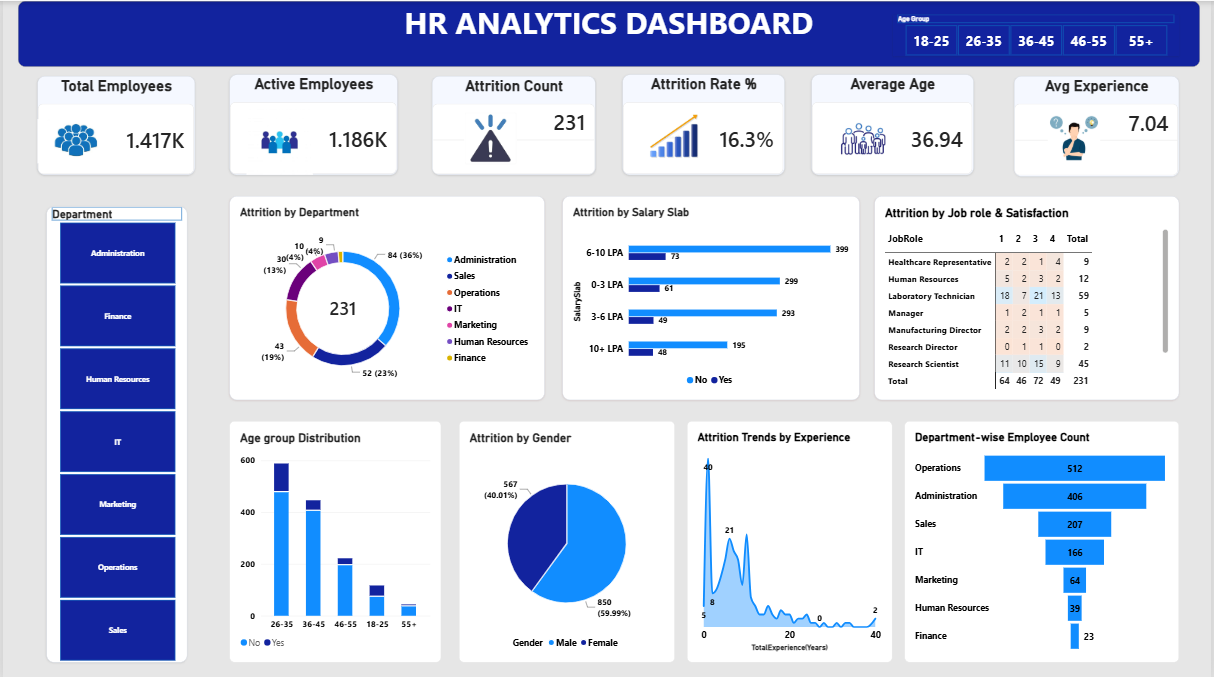

The dashboard page shown, as its layout file describes it:
{"tool":"powerbi","page":{"name":"Page 1","canvas":[1920,1080],"ordinal":0},"visuals":[{"type":"textbox","box":[23.9,0,1880.1,105],"z":0},{"type":"cardVisual","title":"Total Employees","fields":{"Data":["CountNonNull(HR_Analytics-4.EmpID)"]},"box":[54.9,119.3,250.5,157.5],"z":1000},{"type":"cardVisual","title":"Active Employees","fields":{"Data":["CountNonNull(HR_Analytics-4.EmployeeCount)"]},"box":[360.3,116.9,267.2,159.9],"z":2000},{"type":"cardVisual","title":"Attrition Count","fields":{"Data":["Sum(HR_Analytics-4.AttritionCount)"]},"box":[682.4,119.3,260.1,157.5],"z":3000},{"type":"cardVisual","title":"Attrition Rate %","fields":{"Data":["HR_Analytics-4.Attrition Rate %"]},"box":[985.4,116.9,257.7,159.9],"z":4000},{"type":"cardVisual","title":"Average Age","fields":{"Data":["Avg(HR_Analytics-4.Age)"]},"box":[1286,116.9,257.7,159.9],"z":5000},{"type":"cardVisual","title":"Avg Experience","fields":{"Data":["Avg(HR_Analytics-4.YearsatCompany)"]},"box":[1608.1,119.3,262.5,159.9],"z":6000},{"type":"image","box":[718.2,176.6,114.5,83.5],"z":7000},{"type":"image","box":[1627.2,176.6,152.7,83.5],"z":8000},{"type":"image","box":[942.4,176.6,250.5,78.7],"z":9000},{"type":"image","box":[305.4,171.8,269.6,105],"z":10000},{"type":"image","box":[54.9,181.3,126.5,83.5],"z":11000},{"type":"image","box":[1243.1,167,250.5,105],"z":12000},{"type":"donutChart","title":" Attrition by Department","fields":{"Category":["HR_Analytics-4.Department"],"Y":["Sum(HR_Analytics-4.AttritionCount)"]},"box":[360.3,310.2,501,324.5],"z":13000},{"type":"clusteredBarChart","title":"Attrition by Salary Slab","fields":{"Category":["HR_Analytics-4.SalarySlab"],"Series":["HR_Analytics-4.Attrition"],"Y":["CountNonNull(HR_Analytics-4.EmpID)"]},"box":[889.9,310.2,472.4,324.5],"z":14000},{"type":"pivotTable","title":"Attrition by Job role & Satisfaction","fields":{"Columns":["HR_Analytics-4.JobSatisfaction"],"Rows":["HR_Analytics-4.JobRole"],"Values":["Sum(HR_Analytics-4.AttritionCount)"]},"box":[1386.2,310.2,484.3,324.5],"z":15000},{"type":"columnChart","title":"Age group Distribution","fields":{"Category":["HR_Analytics-4.AgeGroup"],"Series":["HR_Analytics-4.Attrition"],"Y":["Sum(HR_Analytics-4.EmployeeCount)"]},"box":[360.3,668.1,336.4,384.1],"z":16000},{"type":"pieChart","title":" Attrition by Gender","fields":{"Category":["HR_Analytics-4.Gender"],"Y":["CountNonNull(HR_Analytics-4.Attrition)"]},"box":[725.3,668.1,343.6,384.1],"z":17000},{"type":"areaChart","title":"Attrition Trends by Experience","fields":{"Category":["HR_Analytics-4.TotalExperience(Years)"],"Y2":["Sum(HR_Analytics-4.AttritionCount)"]},"box":[1088,668.1,326.9,384.1],"z":18000},{"type":"funnel","title":"Department-wise Employee Count","fields":{"Category":["HR_Analytics-4.Department"],"Y":["CountNonNull(HR_Analytics-4.EmpID)"]},"box":[1433.9,668.1,436.6,384.1],"z":19000},{"type":"slicer","fields":{"Values":["HR_Analytics-4.Department"]},"box":[69.2,326.9,224.3,725.3],"z":20000},{"type":"slicer","fields":{"Values":["HR_Analytics-4.AgeGroup"]},"box":[1414.8,21.5,455.7,66.8],"z":21000}]}

Visuals, with their boxes in screenshot pixels (x1, y1, x2, y2), scaled from the page's 1920x1080 canvas onto the 1214x677 screenshot:
textbox: bbox=(15, 0, 1204, 66)
"Total Employees" cardVisual: bbox=(35, 75, 193, 174)
"Active Employees" cardVisual: bbox=(228, 73, 397, 174)
"Attrition Count" cardVisual: bbox=(431, 75, 596, 174)
"Attrition Rate %" cardVisual: bbox=(623, 73, 786, 174)
"Average Age" cardVisual: bbox=(813, 73, 976, 174)
"Avg Experience" cardVisual: bbox=(1017, 75, 1183, 175)
image: bbox=(454, 111, 527, 163)
image: bbox=(1029, 111, 1125, 163)
image: bbox=(596, 111, 754, 160)
image: bbox=(193, 108, 364, 174)
image: bbox=(35, 114, 115, 166)
image: bbox=(786, 105, 944, 171)
" Attrition by Department" donutChart: bbox=(228, 194, 545, 398)
"Attrition by Salary Slab" clusteredBarChart: bbox=(563, 194, 861, 398)
"Attrition by Job role & Satisfaction" pivotTable: bbox=(876, 194, 1183, 398)
"Age group Distribution" columnChart: bbox=(228, 419, 441, 660)
" Attrition by Gender" pieChart: bbox=(459, 419, 676, 660)
"Attrition Trends by Experience" areaChart: bbox=(688, 419, 895, 660)
"Department-wise Employee Count" funnel: bbox=(907, 419, 1183, 660)
slicer - HR_Analytics-4.Department: bbox=(44, 205, 186, 660)
slicer - HR_Analytics-4.AgeGroup: bbox=(895, 13, 1183, 55)
